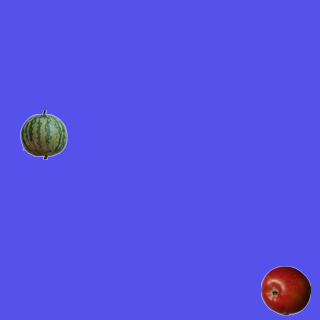Apple Braeburn: (260, 265, 310, 315)
Watermelon: (18, 109, 68, 159)
